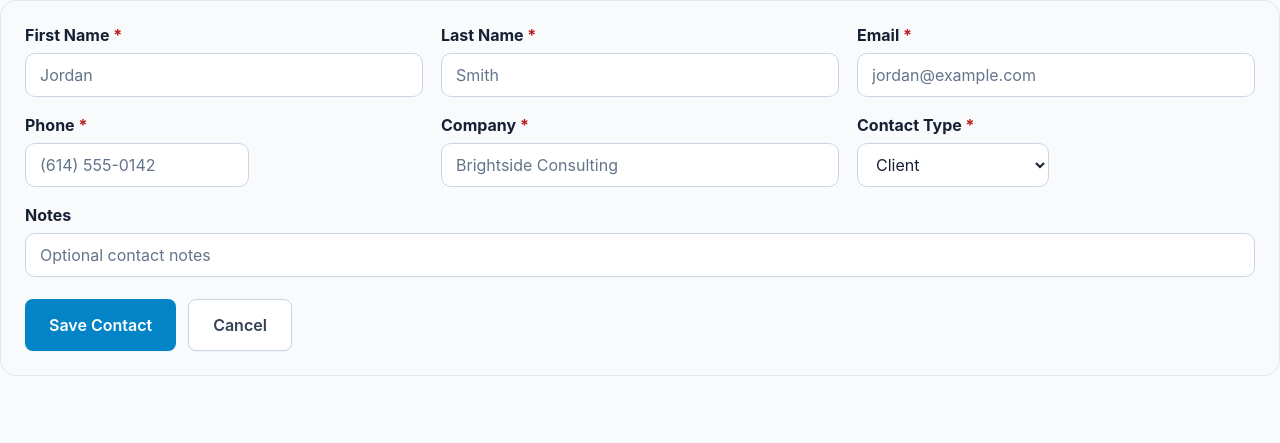
Test: ContactEntry › blocks submission and surfaces errors when required fields are empty
The image size is (1280, 443).
Click the button "Save Contact".
click(101, 325)  # box [25,299,176,351]
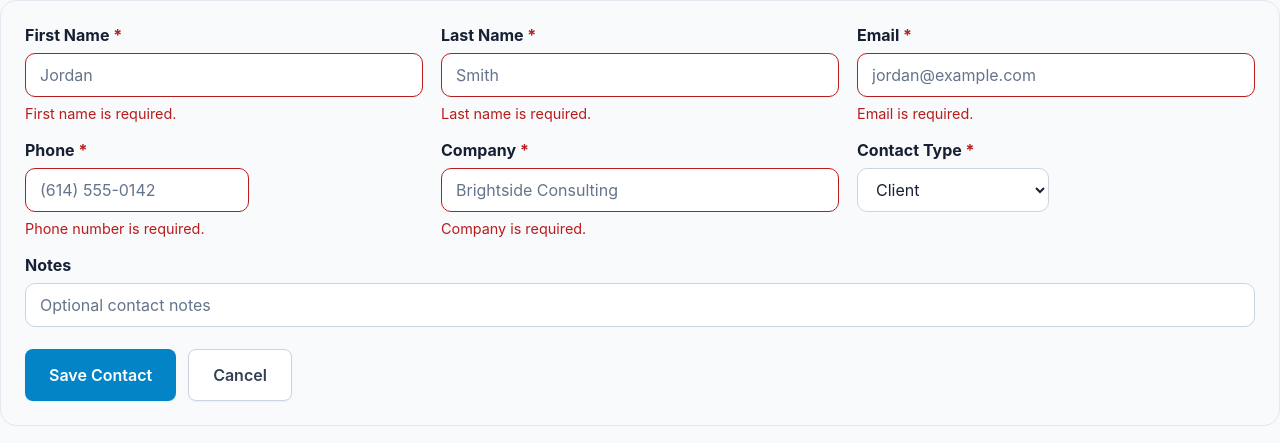
Expected: the text "First name is required." is shown, [25,105,176,122]
Expected: the text "Email is required." is shown, [857,105,973,122]
